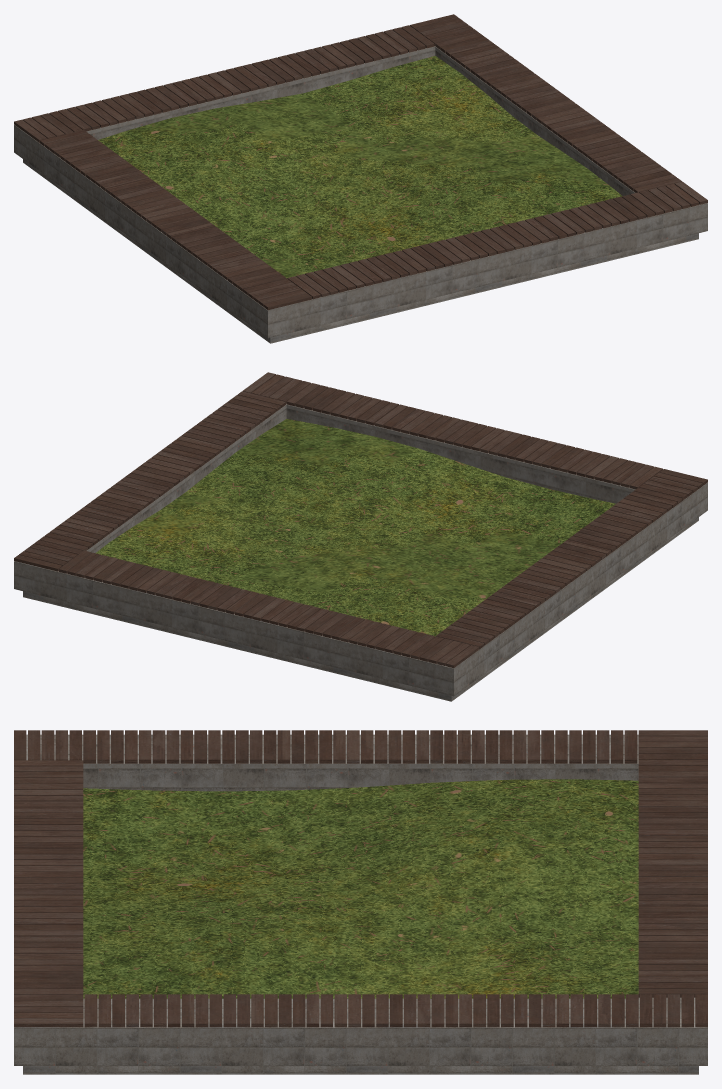
File: SM_TreeBench_01.fbx
3 views of the same model, one above another, from view 1: azimuth 30°, elevation 25°; view 2: azimuth 150°, elevation 25°; view 3: azimuth 270°, elevation 25° (orthographic). The views are drawn at different scales.
Visible parts, largest first — view 1: SM_TreeBench_01_LOD0; view 2: SM_TreeBench_01_LOD0; view 3: SM_TreeBench_01_LOD0.
Boxes of the visible parts, x1,y1,x2,y2 form: SM_TreeBench_01_LOD0: (14, 14, 707, 343); SM_TreeBench_01_LOD0: (14, 372, 707, 701); SM_TreeBench_01_LOD0: (14, 730, 707, 1074).
Bounding box in the file's own units: 500 × 500 × 43.5.
Materials: 3 (3 with a texture image).
